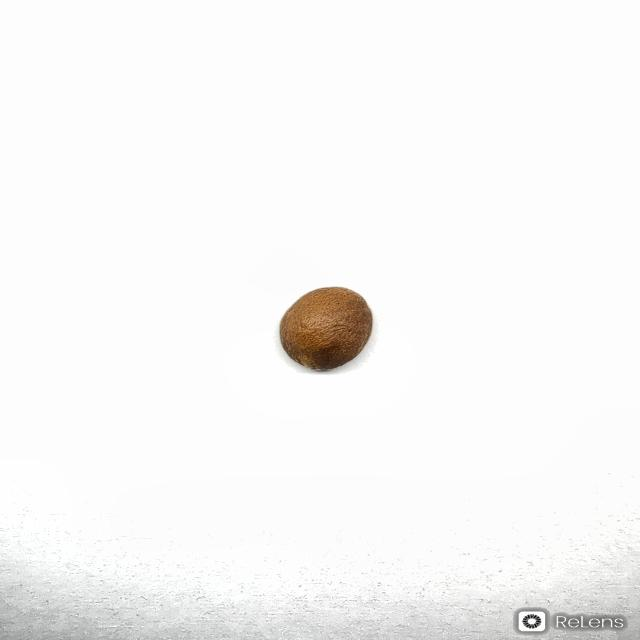Good bean: (278, 285, 373, 371)
